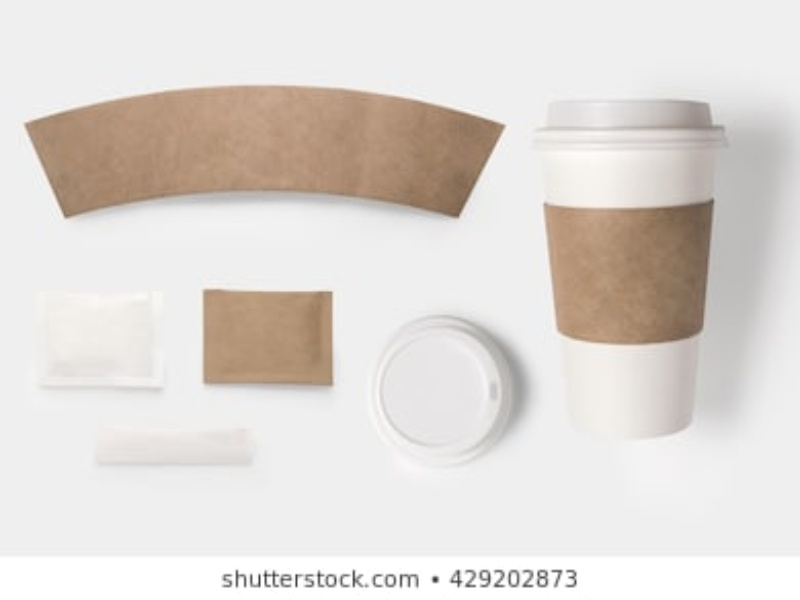coffee-lid: (366, 313, 520, 468), (528, 96, 727, 150)
plastic-cup: (528, 95, 729, 439)
